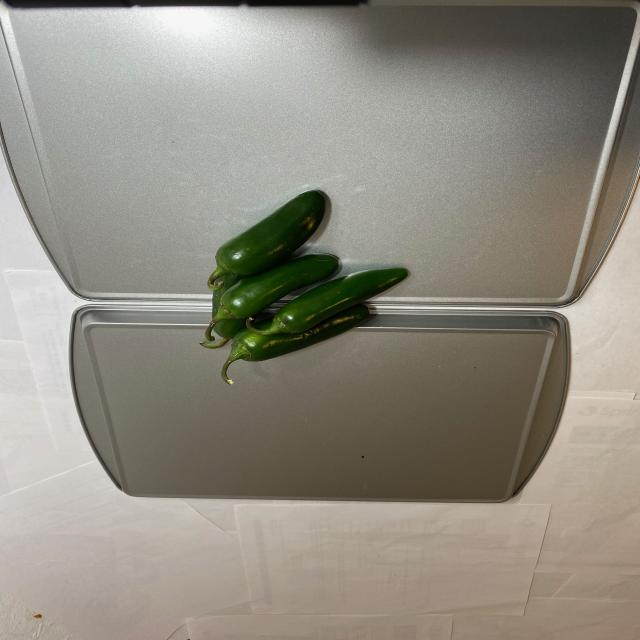chilli: (194, 187, 413, 392)
